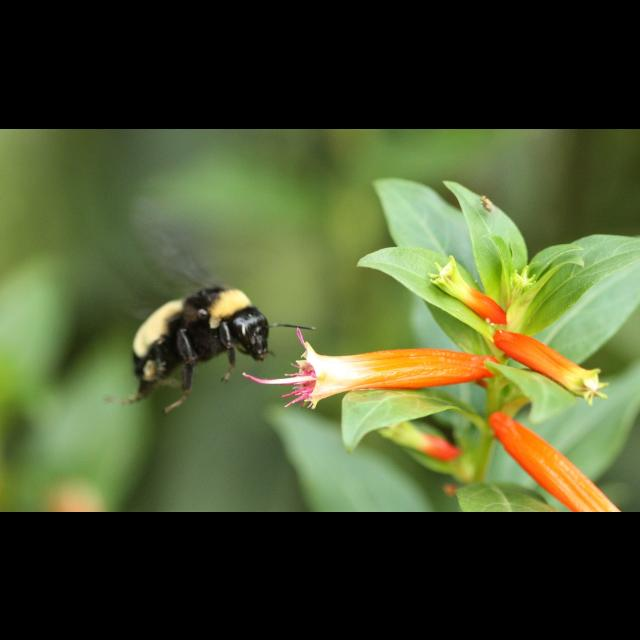Flower: (238, 326, 512, 414), (489, 409, 618, 511), (490, 330, 612, 404), (428, 252, 506, 326), (373, 418, 459, 458)
